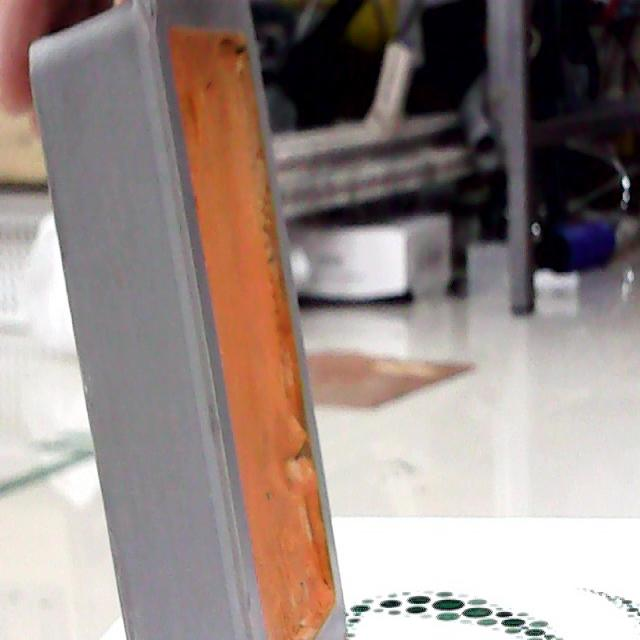block: (29, 4, 344, 637)
